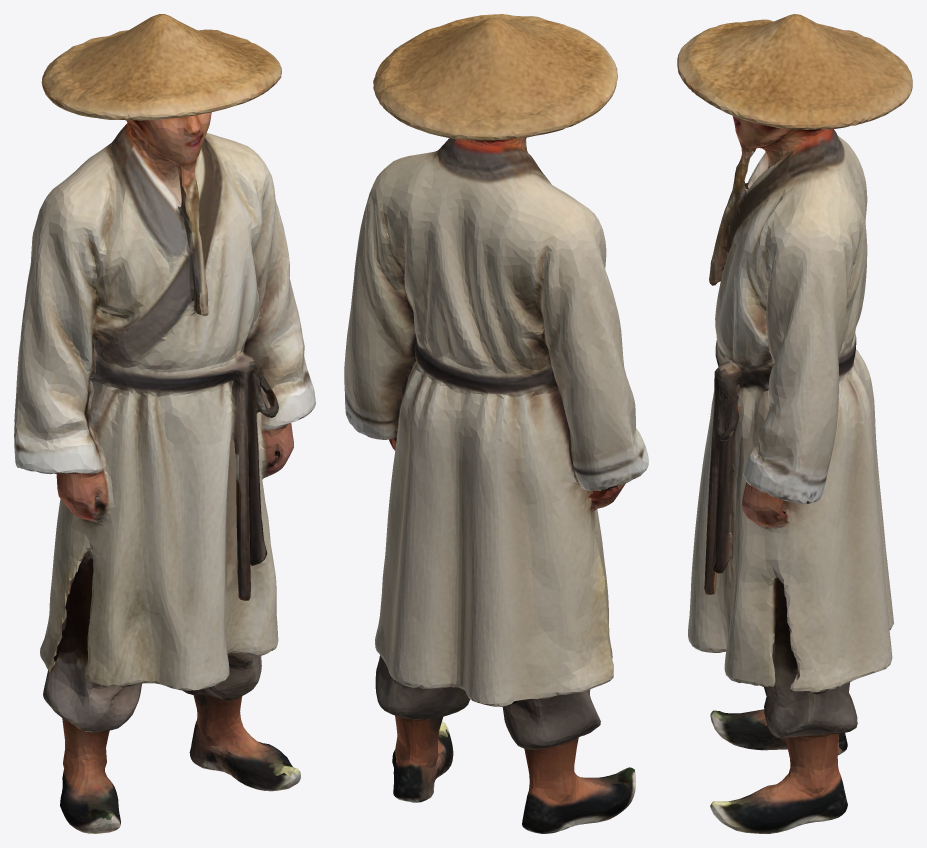
The model's file is mdl_farmer_001.glb.
3 views of the same model, side by side, from view 1: azimuth 30°, elevation 25°; view 2: azimuth 150°, elevation 25°; view 3: azimuth 270°, elevation 25° (orthographic).
Visible parts, largest first — view 1: tmp38tmfv4b.ply; view 2: tmp38tmfv4b.ply; view 3: tmp38tmfv4b.ply.
Boxes of the visible parts, x1,y1,x2,y2 form: tmp38tmfv4b.ply: [14, 14, 315, 833]; tmp38tmfv4b.ply: [344, 14, 648, 833]; tmp38tmfv4b.ply: [677, 14, 912, 833].
Bounding box in the file's own units: 0.3911 × 0.9909 × 0.2745.
Materials: 1 (1 with a texture image).
